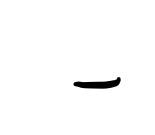minus: (74, 77, 121, 90)
